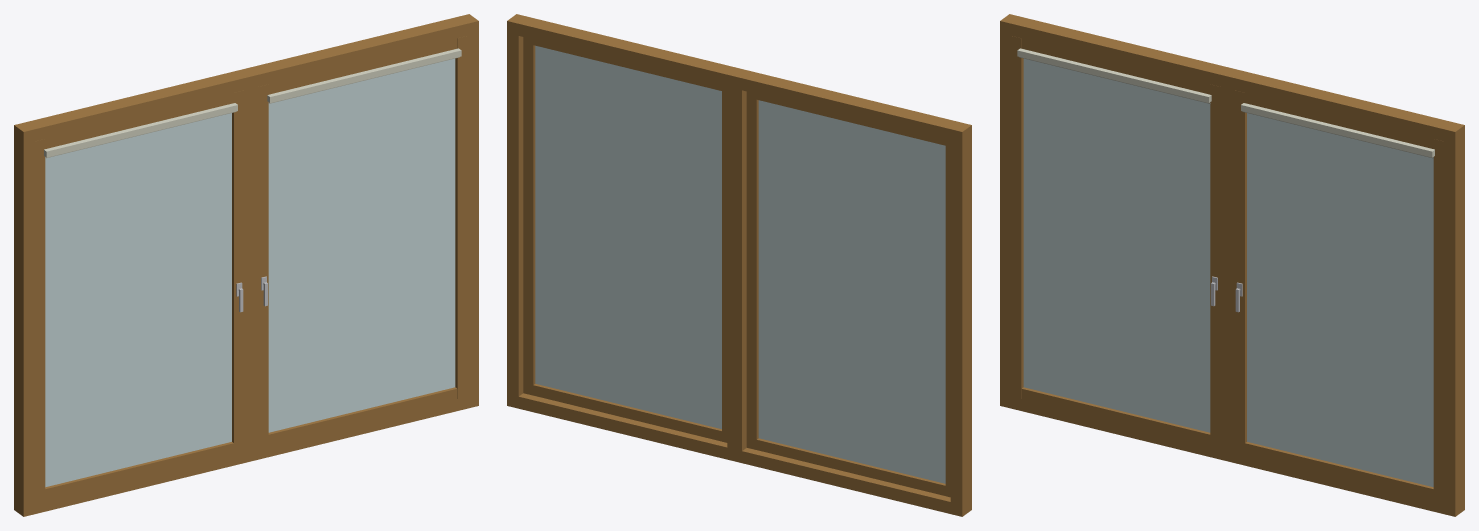
The picture shows the model from 3 angles, left to right: view 1: azimuth 30°, elevation 25°; view 2: azimuth 150°, elevation 25°; view 3: azimuth 330°, elevation 25°; orthographic projection.
Visible parts, largest first — view 1: RightLeafGlass, LeftLeafGlass, Frame, RightLeafStileHi, LeftLeafStileHi, LeftLeafStileLo, RightLeafStileLo, RightLeafRailBottom, LeftLeafRailBottom, RightLeafRailTop, LeftLeafRailTop, RightLeafBlindRail (+1 smaller); view 2: LeftLeafGlass, RightLeafGlass, Frame, RightLeafStileHi, LeftLeafStileHi, LeftLeafRailBottom, RightLeafRailBottom, LeftLeafStileLo, RightLeafStileLo, LeftLeafRailTop, RightLeafRailTop; view 3: LeftLeafGlass, RightLeafGlass, Frame, LeftLeafStileLo, RightLeafStileLo, RightLeafStileHi, LeftLeafStileHi, LeftLeafRailBottom, RightLeafRailBottom, LeftLeafRailTop, RightLeafRailTop, LeftLeafBlindRail (+1 smaller).
Part boxes in pixels (bbox=[...]): RightLeafGlass: bbox=[268, 58, 455, 432]; LeftLeafGlass: bbox=[45, 113, 231, 487]; Frame: bbox=[14, 14, 478, 516]; RightLeafStileHi: bbox=[455, 36, 467, 398]; LeftLeafStileHi: bbox=[232, 90, 243, 453]; LeftLeafStileLo: bbox=[35, 139, 45, 501]; RightLeafStileLo: bbox=[258, 84, 268, 447]; RightLeafRailBottom: bbox=[268, 387, 457, 444]; LeftLeafRailBottom: bbox=[45, 442, 233, 499]; RightLeafRailTop: bbox=[268, 38, 457, 94]; LeftLeafRailTop: bbox=[45, 93, 233, 148]; RightLeafBlindRail: bbox=[267, 48, 461, 102]; LeftLeafGlass: bbox=[758, 100, 945, 483]; RightLeafGlass: bbox=[535, 45, 721, 429]; Frame: bbox=[507, 14, 971, 516]; RightLeafStileHi: bbox=[523, 37, 535, 395]; LeftLeafStileHi: bbox=[746, 91, 758, 449]; LeftLeafRailBottom: bbox=[756, 438, 945, 495]; RightLeafRailBottom: bbox=[533, 384, 721, 441]; LeftLeafStileLo: bbox=[945, 140, 950, 497]; RightLeafStileLo: bbox=[722, 85, 727, 442]; LeftLeafRailTop: bbox=[756, 94, 945, 145]; RightLeafRailTop: bbox=[533, 39, 721, 90]; LeftLeafGlass: bbox=[1023, 58, 1210, 432]; RightLeafGlass: bbox=[1247, 113, 1433, 487]; Frame: bbox=[1000, 14, 1464, 516]; LeftLeafStileLo: bbox=[1011, 36, 1023, 398]; RightLeafStileLo: bbox=[1235, 90, 1246, 453]; RightLeafStileHi: bbox=[1433, 139, 1443, 501]; LeftLeafStileHi: bbox=[1210, 84, 1220, 447]; LeftLeafRailBottom: bbox=[1021, 387, 1210, 444]; RightLeafRailBottom: bbox=[1245, 442, 1433, 499]; LeftLeafRailTop: bbox=[1021, 38, 1210, 94]; RightLeafRailTop: bbox=[1245, 93, 1433, 148]; LeftLeafBlindRail: bbox=[1017, 48, 1211, 102].
Size of the model in its own units: 2.76 by 2.23 by 0.13.
